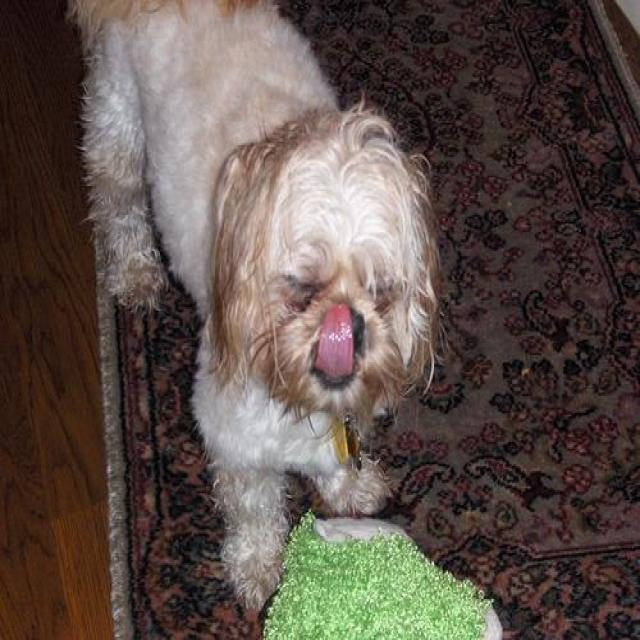shih_tzu: (73, 2, 439, 604)
